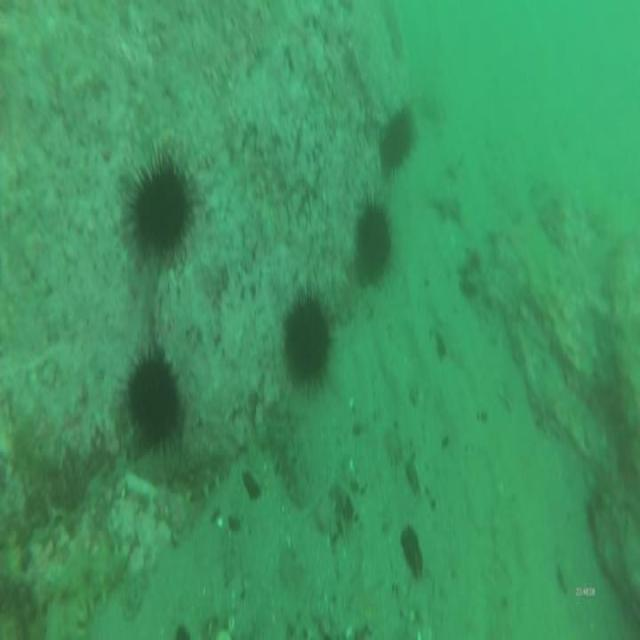echinus: (122, 148, 196, 276), (117, 342, 183, 454), (280, 289, 336, 389), (352, 196, 394, 294), (376, 98, 417, 182)
holothurian: (24, 536, 132, 620)
